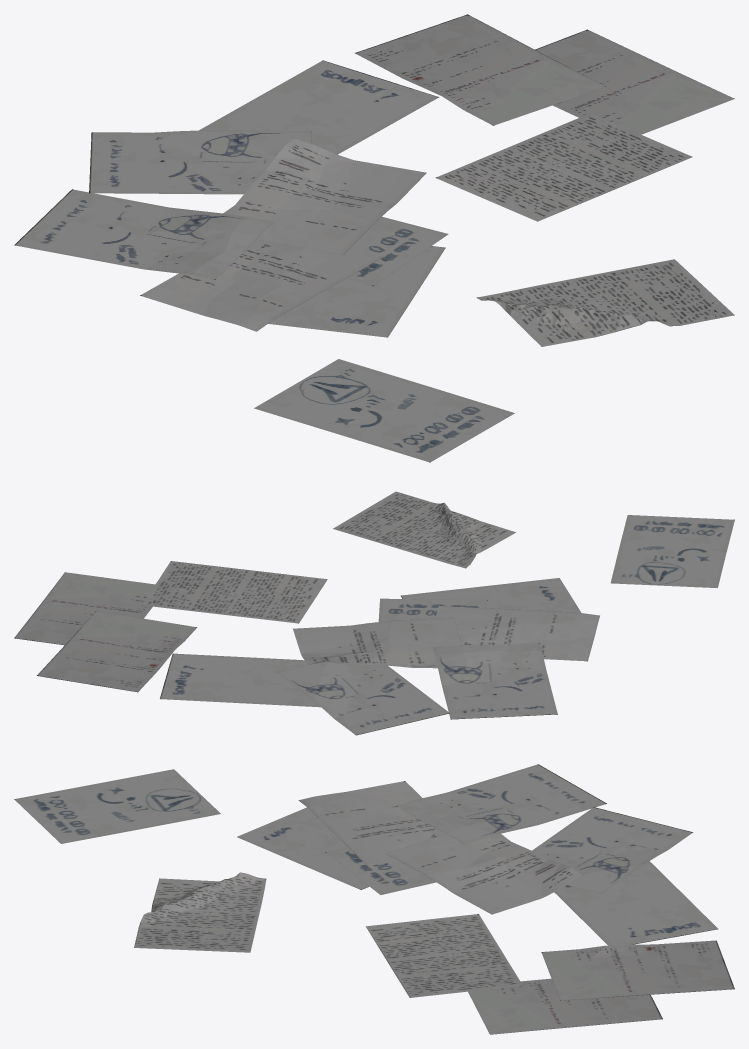
File: hojas.fbx
3 renders of one model, top to bottom at view 1: azimuth 30°, elevation 25°; view 2: azimuth 150°, elevation 25°; view 3: azimuth 270°, elevation 25°, orthographic. The views are drawn at different scales.
Visible parts, largest first — view 1: SM_Mole_ScatteredPapers_A.mo; view 2: SM_Mole_ScatteredPapers_A.mo; view 3: SM_Mole_ScatteredPapers_A.mo.
Part boxes in pixels (x1,y1,x2,y2): SM_Mole_ScatteredPapers_A.mo: [14, 14, 734, 462]; SM_Mole_ScatteredPapers_A.mo: [14, 491, 734, 735]; SM_Mole_ScatteredPapers_A.mo: [14, 764, 734, 1034].
Bounding box in the file's own units: 174 × 3.55 × 196.
Materials: 1 (1 with a texture image).
